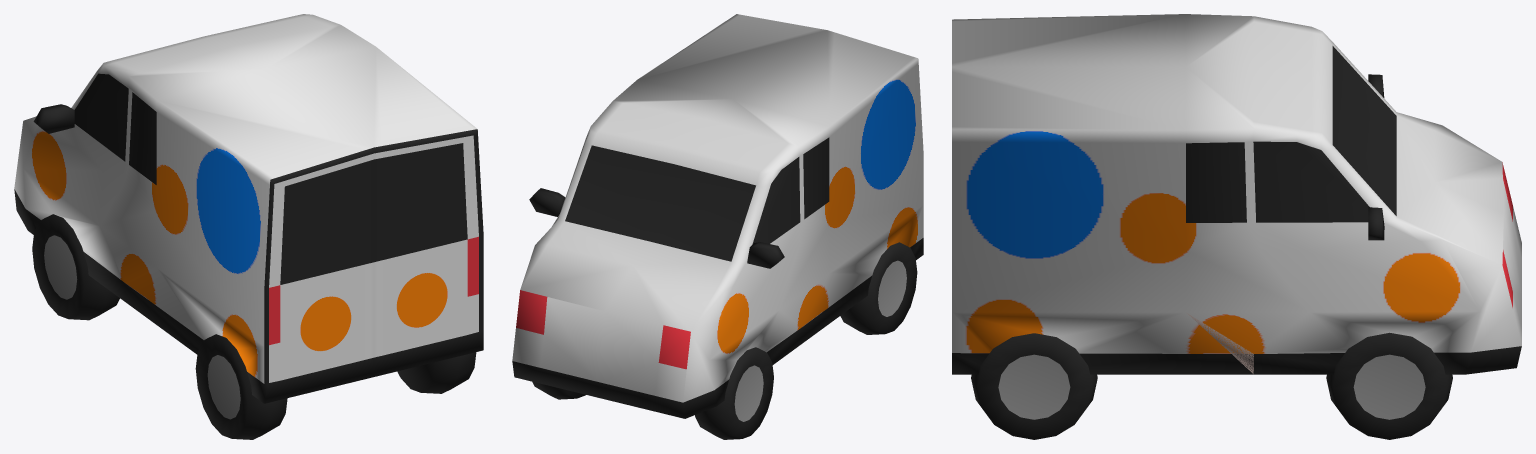
File: post_van.glb
3 views of the same model, side by side, from view 1: azimuth 30°, elevation 25°; view 2: azimuth 150°, elevation 25°; view 3: azimuth 270°, elevation 25° (orthographic). The views are drawn at different scales.
Parts seen in each view (by area): view 1: Cube.006, Circle, Cube.007; view 2: Cube.006, Circle, Cube.007; view 3: Cube.006, Circle, Cube.007.
Boxes of the visible parts, bbox=[...] form: Cube.006: bbox=[14, 14, 483, 403]; Circle: bbox=[32, 214, 476, 439]; Cube.007: bbox=[33, 104, 74, 133]; Cube.006: bbox=[512, 14, 923, 418]; Circle: bbox=[532, 242, 917, 439]; Cube.007: bbox=[529, 188, 784, 268]; Cube.006: bbox=[952, 14, 1521, 374]; Circle: bbox=[971, 332, 1452, 439]; Cube.007: bbox=[1368, 74, 1384, 240].
Size of the model in its own units: 2.61 by 2.55 by 4.14.
4 materials, 1 textured.
